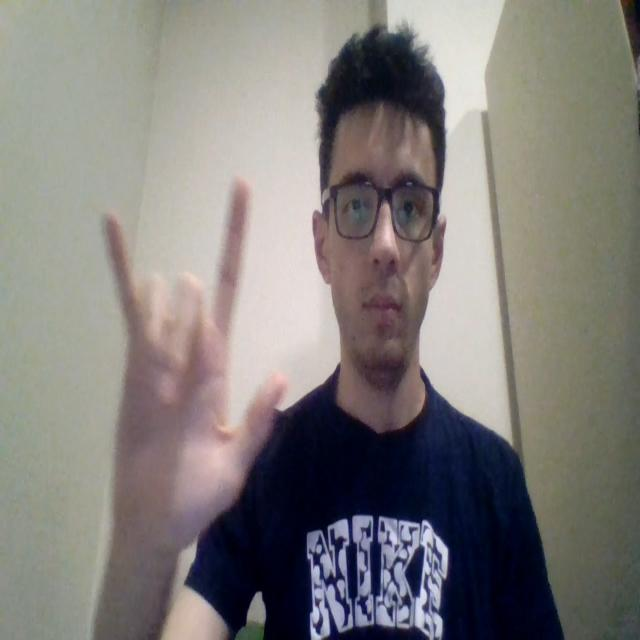iloveyou: (100, 180, 288, 558)
